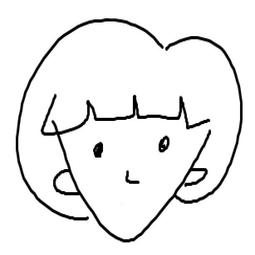ear: (51, 167, 79, 200), (183, 164, 213, 187)
pointy_nose: (124, 166, 140, 187)
small_eye: (92, 140, 108, 160), (156, 135, 173, 153)
